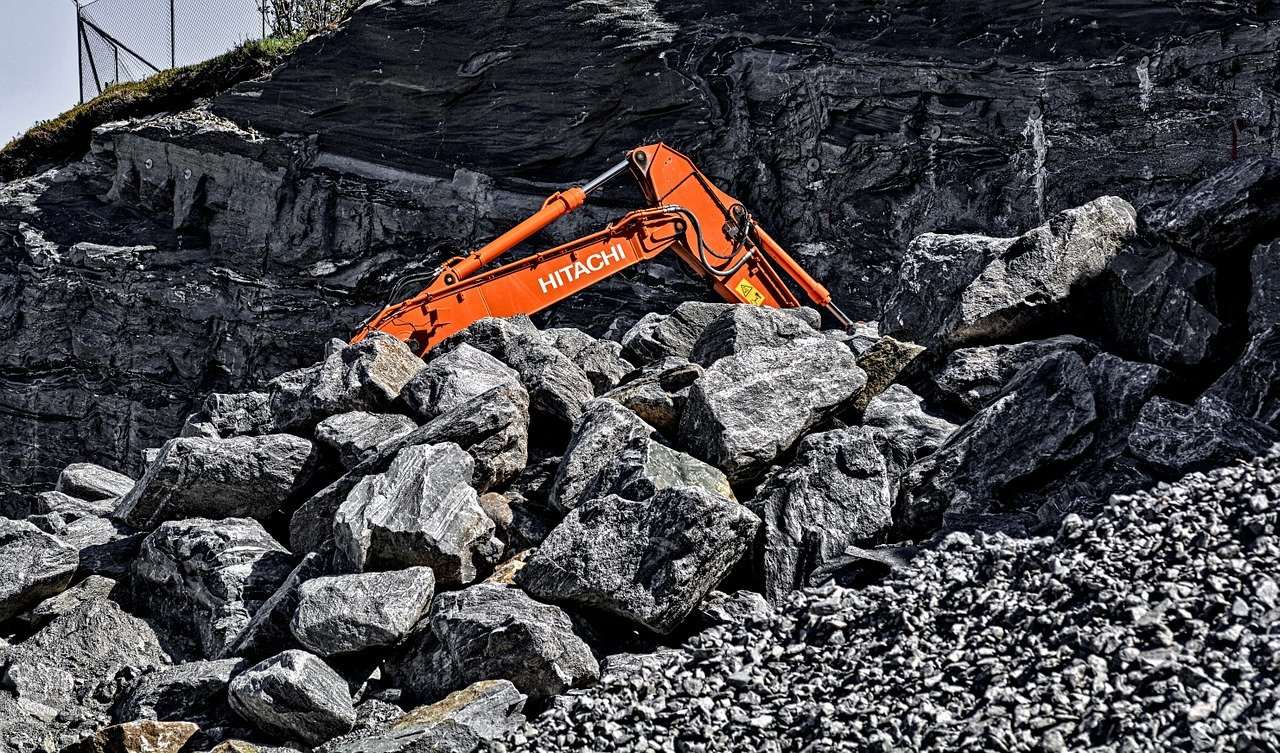bulldozer: (346, 113, 890, 351)
